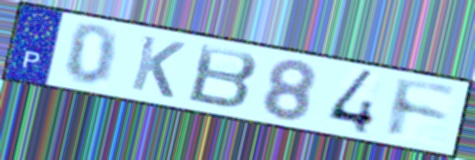0: (64, 23, 121, 88)
4: (324, 67, 378, 138)
8: (260, 57, 319, 124)
B: (185, 42, 262, 111)
F: (386, 74, 460, 141)
K: (128, 32, 189, 101)
